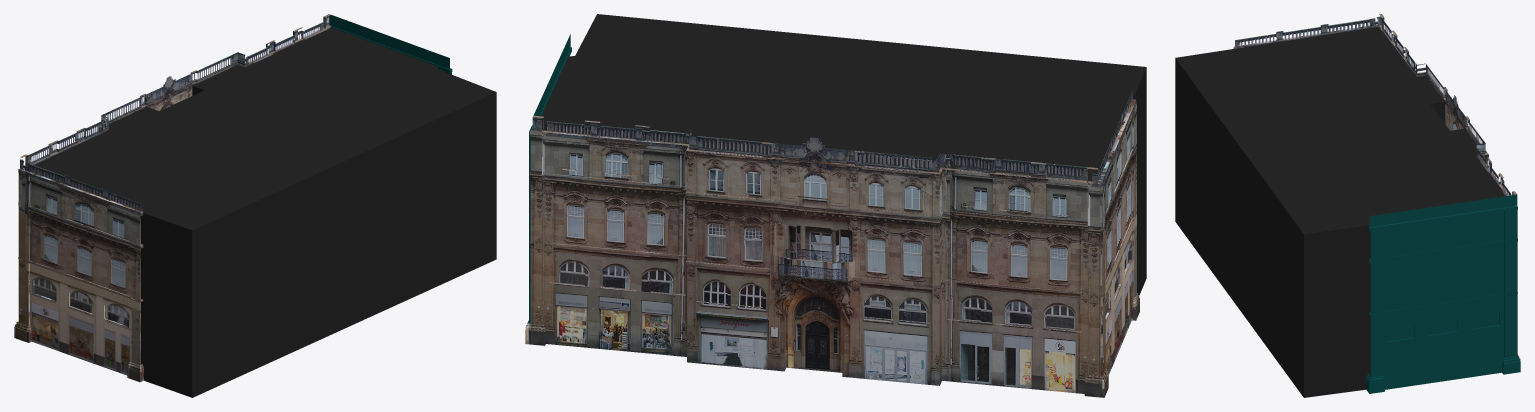
File: B_Werth_46_48_50.FBX
The picture shows the model from 3 angles, left to right: view 1: azimuth 30°, elevation 25°; view 2: azimuth 150°, elevation 25°; view 3: azimuth 270°, elevation 25°; orthographic projection. The views are drawn at different scales.
Visible parts, largest first — view 1: B_Werth_46_48_50, B_Werth_46_48_50_Side_Right, B_Werth_46_48_50_front, B_Werth_46_48_50_Side_Left; view 2: B_Werth_46_48_50_front, B_Werth_46_48_50, B_Werth_46_48_50_Side_Right, B_Werth_46_48_50_Side_Left; view 3: B_Werth_46_48_50, B_Werth_46_48_50_Side_Left, B_Werth_46_48_50_front, B_Werth_46_48_50_Side_Right.
Part boxes in pixels (left/top/right/bottom): B_Werth_46_48_50: left=23, top=27, right=496, bottom=397; B_Werth_46_48_50_Side_Right: left=14, top=159, right=143, bottom=382; B_Werth_46_48_50_front: left=15, top=14, right=330, bottom=342; B_Werth_46_48_50_Side_Left: left=329, top=15, right=452, bottom=74; B_Werth_46_48_50_front: left=525, top=115, right=1108, bottom=397; B_Werth_46_48_50: left=541, top=14, right=1146, bottom=295; B_Werth_46_48_50_Side_Right: left=1097, top=91, right=1139, bottom=396; B_Werth_46_48_50_Side_Left: left=526, top=34, right=571, bottom=326; B_Werth_46_48_50: left=1175, top=26, right=1511, bottom=397; B_Werth_46_48_50_Side_Left: left=1366, top=194, right=1520, bottom=393; B_Werth_46_48_50_front: left=1379, top=14, right=1519, bottom=363; B_Werth_46_48_50_Side_Right: left=1233, top=16, right=1381, bottom=48.
Bounding box in the file's own units: 4696 × 1899 × 3252.
4 materials, 2 textured.
